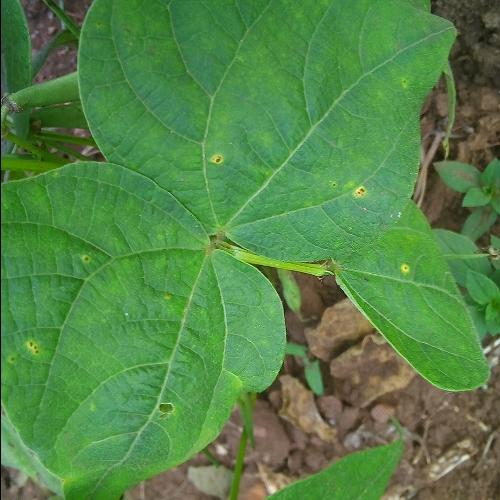hawar: (14, 324, 60, 392), (382, 254, 432, 301), (150, 388, 190, 430), (340, 174, 386, 207), (194, 143, 235, 179), (72, 242, 98, 286)
